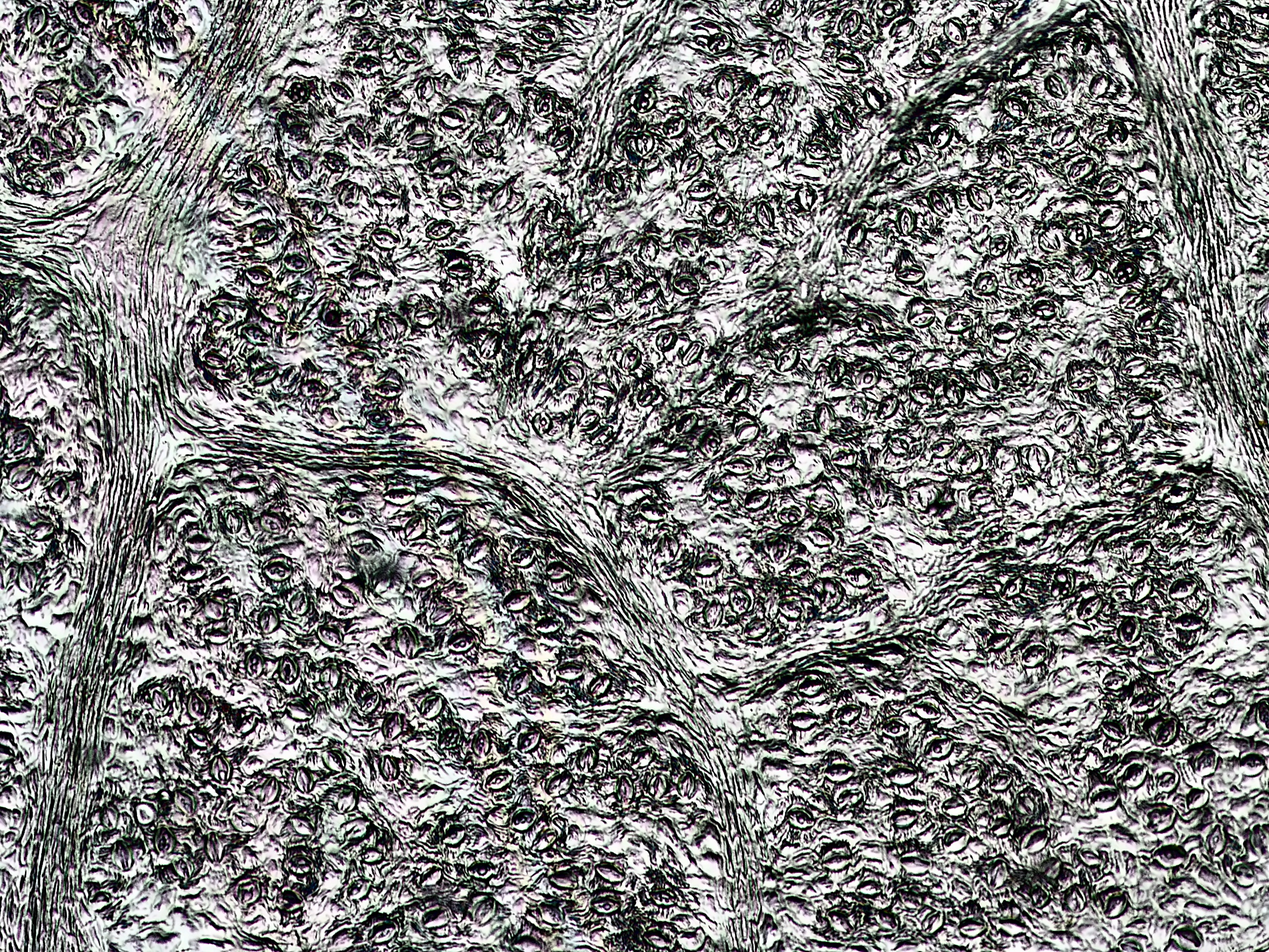stomata: (278, 844, 319, 874), (321, 922, 360, 952), (863, 477, 892, 514), (1086, 781, 1121, 811), (1016, 825, 1053, 853), (941, 373, 970, 408), (897, 847, 934, 874), (109, 837, 136, 874), (1147, 714, 1178, 746), (274, 882, 306, 913), (201, 832, 232, 864), (144, 684, 175, 716), (777, 596, 814, 622), (894, 260, 932, 285), (1168, 926, 1207, 950), (232, 876, 262, 907), (470, 895, 499, 927), (533, 902, 570, 927), (380, 711, 408, 744), (545, 565, 578, 593), (258, 555, 293, 581), (544, 869, 587, 890), (986, 139, 1016, 169), (281, 75, 312, 104), (343, 122, 372, 153), (930, 185, 959, 216), (1186, 713, 1218, 741), (1142, 804, 1176, 830), (227, 808, 261, 834), (5, 465, 39, 491), (5, 423, 34, 453), (247, 219, 278, 247), (853, 313, 884, 341), (820, 844, 852, 871), (783, 805, 819, 829), (1044, 568, 1076, 595), (821, 758, 858, 781), (337, 819, 371, 844), (1046, 123, 1080, 148), (374, 314, 403, 343), (1190, 746, 1218, 776), (829, 785, 864, 809), (259, 774, 283, 809), (395, 625, 419, 660), (1115, 614, 1142, 645), (1235, 751, 1267, 777), (1076, 595, 1108, 621), (631, 383, 663, 409), (820, 578, 845, 611), (442, 255, 475, 280), (1015, 264, 1048, 289), (645, 886, 684, 907), (1152, 844, 1186, 868), (1126, 690, 1160, 714), (1123, 539, 1152, 567), (334, 786, 362, 815), (173, 789, 201, 818), (903, 482, 932, 510), (1042, 73, 1070, 102), (676, 924, 707, 950), (401, 127, 436, 150), (150, 824, 175, 856), (382, 481, 415, 505), (825, 444, 861, 466), (436, 107, 469, 131), (366, 226, 402, 248), (345, 876, 373, 904), (292, 767, 320, 795), (1230, 860, 1257, 889), (240, 649, 267, 678), (700, 599, 727, 628), (659, 115, 688, 142), (313, 625, 347, 648), (922, 734, 952, 760), (968, 183, 994, 213), (1006, 54, 1037, 79), (421, 218, 456, 240), (257, 511, 289, 535), (24, 3, 48, 35), (1121, 396, 1154, 419), (917, 908, 945, 935), (656, 533, 683, 561), (49, 126, 77, 153), (70, 63, 97, 91), (236, 845, 265, 871), (172, 853, 201, 879), (1068, 256, 1097, 282), (941, 16, 967, 45), (576, 743, 601, 773), (48, 475, 73, 505), (812, 402, 837, 432), (76, 420, 106, 445), (1205, 824, 1227, 858), (277, 654, 299, 688), (637, 929, 676, 948), (332, 503, 367, 524), (330, 585, 365, 606), (927, 124, 954, 151), (504, 669, 532, 695), (992, 445, 1018, 473), (1025, 443, 1051, 471), (558, 359, 586, 385), (830, 104, 856, 132), (187, 690, 209, 723), (842, 566, 875, 588), (908, 310, 941, 332), (434, 511, 463, 536), (632, 84, 657, 113), (377, 753, 401, 783), (182, 529, 212, 553), (808, 491, 838, 515), (494, 50, 524, 74), (465, 860, 499, 881), (18, 561, 39, 595), (507, 545, 538, 568), (469, 729, 491, 761), (1064, 373, 1096, 395), (1136, 654, 1173, 673), (1061, 886, 1087, 913), (545, 772, 572, 798), (418, 694, 444, 721), (1096, 430, 1123, 456), (762, 451, 797, 471), (774, 344, 799, 372), (684, 84, 709, 112), (326, 80, 355, 104), (1212, 4, 1236, 33), (875, 392, 899, 421), (1093, 206, 1122, 230), (593, 862, 626, 883), (269, 476, 290, 509), (345, 473, 378, 494), (669, 273, 700, 295), (830, 704, 864, 724), (228, 472, 262, 492), (958, 450, 984, 476), (739, 251, 765, 277), (674, 769, 699, 796), (644, 772, 671, 797), (516, 729, 543, 754), (326, 236, 353, 261), (1133, 309, 1160, 334), (975, 365, 1000, 392), (855, 365, 880, 392), (1018, 643, 1050, 664), (616, 776, 637, 808), (766, 535, 790, 563), (26, 137, 54, 161), (529, 413, 553, 441), (972, 271, 1000, 295), (1003, 173, 1035, 194), (711, 125, 739, 149), (801, 139, 833, 160), (838, 9, 862, 37), (1168, 576, 1197, 599), (208, 754, 231, 783), (236, 707, 259, 736), (1086, 71, 1109, 100), (1000, 97, 1029, 120), (1171, 612, 1208, 630), (591, 895, 628, 913), (683, 181, 720, 199), (985, 858, 1007, 888), (420, 906, 450, 928), (25, 520, 58, 540), (443, 634, 476, 654), (489, 181, 511, 211), (634, 284, 667, 304), (1066, 158, 1096, 180), (852, 684, 883, 705), (365, 920, 396, 941), (531, 661, 557, 686), (256, 606, 281, 632), (220, 508, 244, 535), (291, 499, 315, 526), (741, 617, 768, 641), (604, 168, 628, 195), (769, 37, 793, 64), (996, 918, 1030, 937), (954, 918, 988, 937), (1117, 357, 1151, 376), (503, 588, 531, 611), (754, 200, 777, 228), (1128, 222, 1160, 242), (97, 802, 119, 831), (351, 754, 373, 783), (868, 536, 897, 558), (699, 429, 721, 458), (907, 383, 936, 405), (483, 768, 513, 789), (927, 436, 957, 457), (32, 87, 62, 108), (373, 378, 403, 399), (897, 207, 918, 237), (832, 52, 862, 73), (345, 270, 382, 287), (1120, 762, 1145, 787), (844, 221, 869, 246), (631, 746, 657, 770), (417, 863, 443, 887), (435, 726, 461, 750), (466, 537, 490, 563), (533, 90, 557, 116), (322, 151, 348, 175), (288, 153, 312, 179), (1085, 127, 1111, 151), (679, 153, 705, 177), (864, 87, 888, 113), (888, 19, 914, 43), (942, 829, 969, 852), (1, 562, 24, 589), (288, 590, 311, 617), (729, 587, 752, 614), (549, 127, 576, 150), (305, 199, 328, 226), (794, 183, 817, 210), (919, 46, 946, 69), (1149, 769, 1180, 789), (931, 620, 962, 640), (288, 817, 319, 837), (1101, 669, 1129, 691), (484, 804, 512, 826), (186, 727, 214, 749), (707, 482, 735, 504), (470, 134, 498, 156), (1138, 251, 1160, 279), (1065, 222, 1093, 244), (896, 143, 924, 165), (394, 251, 428, 269), (357, 846, 386, 867), (1113, 933, 1145, 952), (886, 766, 918, 785), (878, 720, 910, 739), (1162, 485, 1194, 504), (827, 910, 852, 934), (725, 381, 750, 405), (487, 100, 511, 125), (243, 162, 267, 187), (571, 411, 601, 431), (584, 302, 614, 322), (673, 234, 698, 258), (944, 313, 974, 333), (1037, 229, 1061, 254), (578, 169, 603, 193), (1102, 894, 1128, 917), (510, 808, 536, 831), (323, 748, 346, 774), (349, 27, 375, 50), (707, 205, 733, 228), (427, 605, 454, 627), (408, 571, 441, 589), (1054, 412, 1081, 434), (529, 23, 556, 45), (1238, 91, 1260, 118), (479, 331, 501, 358), (425, 156, 456, 175), (715, 70, 734, 101), (1098, 721, 1126, 742), (693, 554, 721, 575), (672, 413, 700, 434), (874, 0, 902, 21), (284, 701, 313, 721), (776, 505, 805, 525), (281, 253, 310, 273), (317, 665, 341, 689), (349, 57, 381, 75), (337, 181, 361, 205), (240, 325, 272, 343), (73, 2, 96, 27), (1184, 786, 1210, 808), (530, 829, 556, 851), (11, 32, 33, 58), (588, 265, 610, 291), (638, 237, 660, 263), (590, 377, 620, 396), (700, 258, 730, 277), (795, 675, 822, 696), (116, 19, 137, 46), (1116, 291, 1143, 312), (1030, 299, 1057, 320), (633, 127, 654, 154), (689, 36, 716, 57), (982, 630, 1010, 650), (806, 527, 834, 547), (393, 43, 421, 63), (1096, 175, 1124, 195), (1130, 578, 1154, 601), (1218, 56, 1242, 79), (989, 234, 1012, 258), (904, 635, 933, 654), (959, 610, 988, 629), (722, 457, 751, 476), (380, 94, 409, 113), (887, 435, 912, 457), (1095, 341, 1117, 366), (607, 139, 629, 164), (954, 488, 975, 514), (22, 173, 48, 194), (639, 504, 671, 521), (889, 810, 916, 830), (788, 711, 818, 729), (734, 423, 761, 443), (258, 303, 285, 323), (1107, 584, 1135, 603), (281, 796, 309, 815), (980, 525, 1008, 544), (587, 675, 610, 698), (680, 342, 703, 365), (875, 908, 899, 930), (440, 824, 464, 846), (630, 465, 663, 481), (1110, 260, 1134, 282), (780, 560, 811, 577), (1014, 795, 1039, 816), (342, 678, 363, 703), (652, 329, 677, 350), (1106, 119, 1127, 144), (1070, 32, 1091, 57), (557, 660, 583, 680), (743, 490, 769, 510), (251, 365, 277, 385), (546, 743, 573, 762), (970, 485, 997, 504), (984, 338, 1011, 357), (1206, 688, 1236, 705), (532, 617, 562, 634), (218, 296, 248, 313), (988, 816, 1010, 839), (204, 596, 226, 619), (403, 517, 425, 540), (1075, 452, 1098, 474), (157, 4, 180, 26), (750, 124, 773, 146), (332, 560, 360, 578), (1010, 365, 1034, 386), (888, 342, 916, 360), (955, 184, 973, 212), (1076, 847, 1101, 867), (415, 75, 435, 100), (973, 225, 993, 250), (777, 199, 802, 219), (988, 322, 1019, 338), (327, 689, 346, 715), (464, 2, 490, 21), (622, 346, 641, 372), (446, 46, 481, 60), (345, 318, 367, 340), (753, 84, 775, 106), (1082, 746, 1105, 767), (305, 749, 326, 772), (990, 771, 1014, 791), (153, 866, 177, 886), (176, 565, 206, 581), (542, 200, 562, 224), (345, 351, 377, 366), (413, 306, 437, 326), (443, 580, 471, 597), (284, 281, 312, 298), (1139, 381, 1167, 398), (851, 395, 868, 423), (620, 258, 637, 286), (856, 879, 881, 898), (134, 803, 159, 822), (49, 31, 74, 50), (827, 357, 845, 383), (912, 703, 941, 719), (369, 188, 398, 204), (299, 379, 328, 395), (1039, 857, 1060, 879), (1030, 887, 1051, 909), (244, 267, 271, 284), (1002, 576, 1021, 600), (202, 628, 232, 643), (281, 364, 299, 389), (465, 296, 493, 312), (87, 890, 113, 907), (444, 14, 470, 31), (944, 795, 965, 816), (877, 557, 898, 578), (901, 912, 923, 932), (825, 381, 847, 401), (708, 32, 730, 52), (438, 191, 461, 210), (229, 188, 258, 203), (345, 0, 369, 18), (366, 409, 390, 427), (562, 310, 580, 334), (520, 351, 537, 376), (360, 692, 380, 713), (322, 306, 343, 326), (1058, 51, 1079, 71), (962, 766, 981, 788), (450, 60, 472, 79), (494, 861, 510, 887), (760, 0, 786, 16), (566, 240, 583, 264), (326, 476, 346, 496), (359, 384, 379, 404), (551, 813, 570, 834), (516, 790, 534, 812), (81, 877, 99, 899), (201, 352, 227, 367), (517, 329, 533, 353), (1122, 169, 1138, 193), (634, 360, 653, 380), (122, 815, 139, 837), (1133, 186, 1157, 201), (76, 401, 93, 422), (568, 823, 586, 842), (1098, 418, 1115, 438), (1252, 72, 1269, 92), (669, 444, 695, 457), (1248, 7, 1269, 23), (1145, 196, 1161, 217), (734, 414, 756, 428), (1009, 351, 1031, 364), (281, 330, 300, 345), (438, 72, 452, 92), (1039, 349, 1056, 365), (1218, 86, 1237, 100), (1137, 169, 1157, 181), (305, 395, 319, 412), (1131, 149, 1143, 167)
